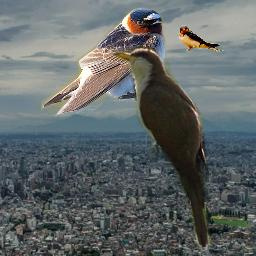Cuckoo: (112, 46, 214, 252)
Swallow: (41, 7, 167, 119), (178, 25, 225, 54)
